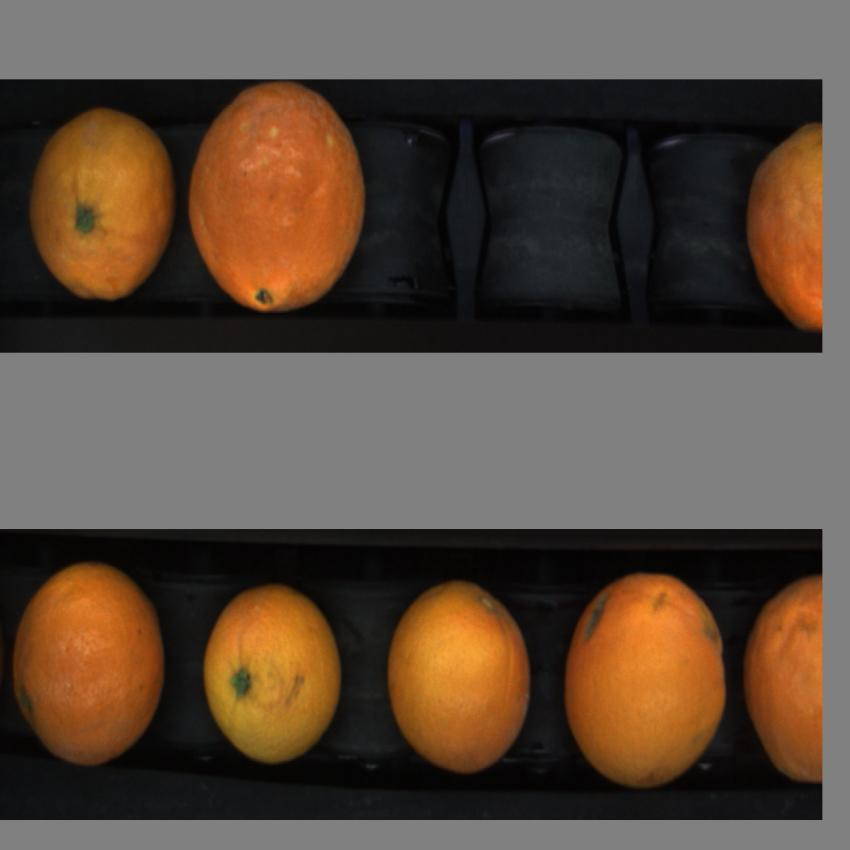Buen estado: (563, 560, 729, 792), (12, 554, 169, 778), (26, 98, 174, 302), (384, 584, 540, 771), (201, 578, 340, 771), (740, 563, 826, 791)
Mal estado: (188, 84, 369, 325), (740, 112, 820, 341)
